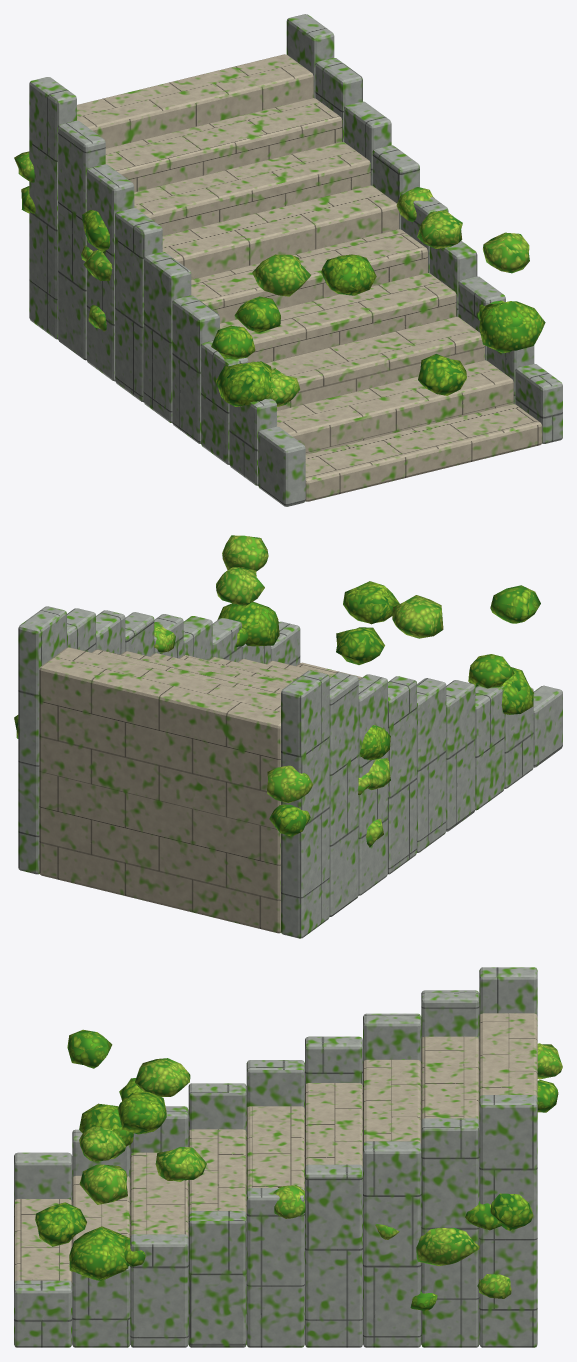
Rendered from stairs-stone.glb.
3 renders of one model, top to bottom at view 1: azimuth 30°, elevation 25°; view 2: azimuth 150°, elevation 25°; view 3: azimuth 270°, elevation 25°, orthographic. The views are drawn at different scales.
Parts seen in each view (by area): view 1: stairs-stone; view 2: stairs-stone; view 3: stairs-stone.
Boxes of the visible parts, x1=… form: stairs-stone: x1=14, y1=14, x2=562, y2=506; stairs-stone: x1=14, y1=535, x2=562, y2=938; stairs-stone: x1=14, y1=967, x2=562, y2=1347.
Bounding box in the file's own units: 3.15 × 2.32 × 4.72.
4 materials, 4 textured.
